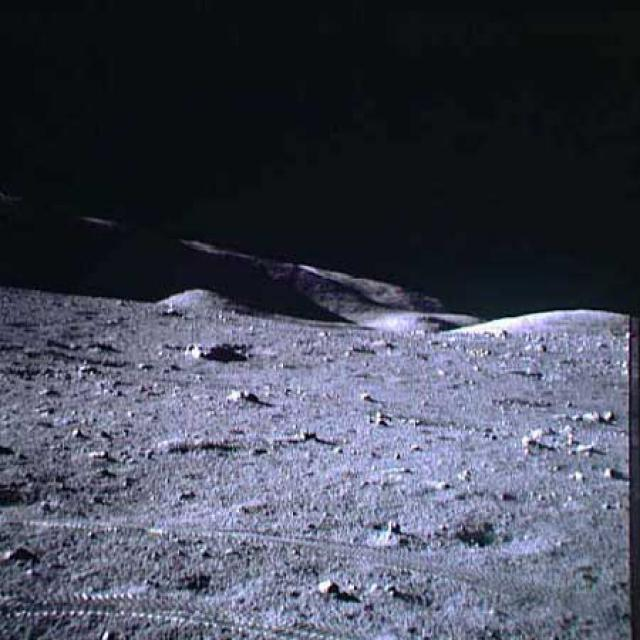crater: (449, 521, 558, 554), (1, 483, 52, 508), (4, 363, 61, 383)
rock: (518, 422, 574, 455), (586, 407, 622, 428), (180, 338, 208, 362), (314, 573, 335, 599), (598, 463, 622, 484), (227, 388, 258, 402)
